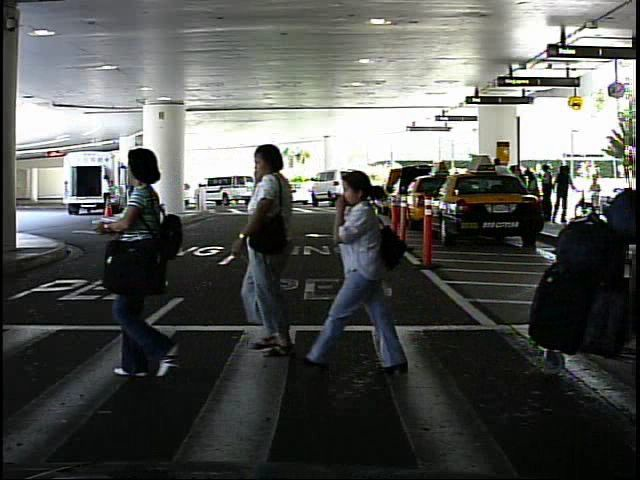person: (89, 136, 203, 384), (316, 160, 427, 381), (224, 139, 330, 361), (588, 172, 607, 208), (99, 172, 117, 196), (256, 177, 266, 204)
